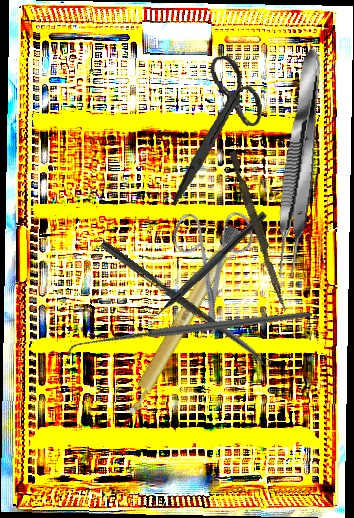Chopper: (137, 202, 269, 330)
Hook Surgical: (66, 231, 314, 438)
Iris Scissors: (140, 185, 293, 340), (157, 53, 271, 206)
Pusher: (225, 150, 293, 313)
Scalpel Handle: (120, 223, 244, 419)
Surgical Spoon: (99, 240, 272, 369)
Tissue Forceps: (269, 47, 331, 280)
